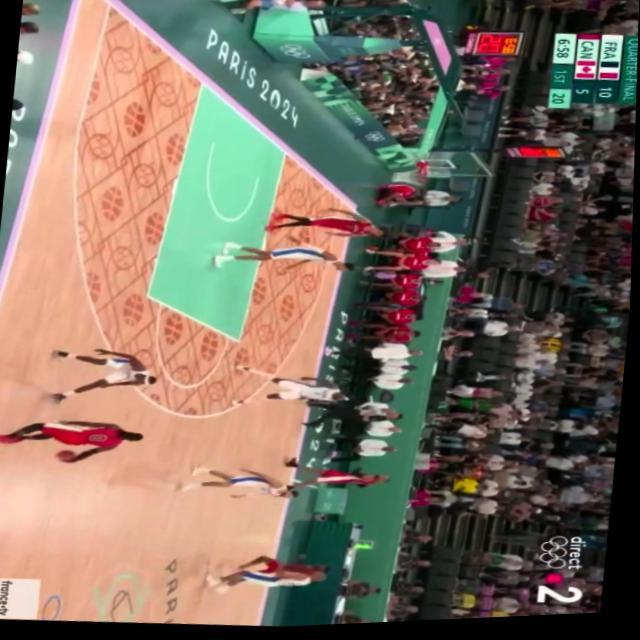ball_handler: (0, 407, 149, 473)
